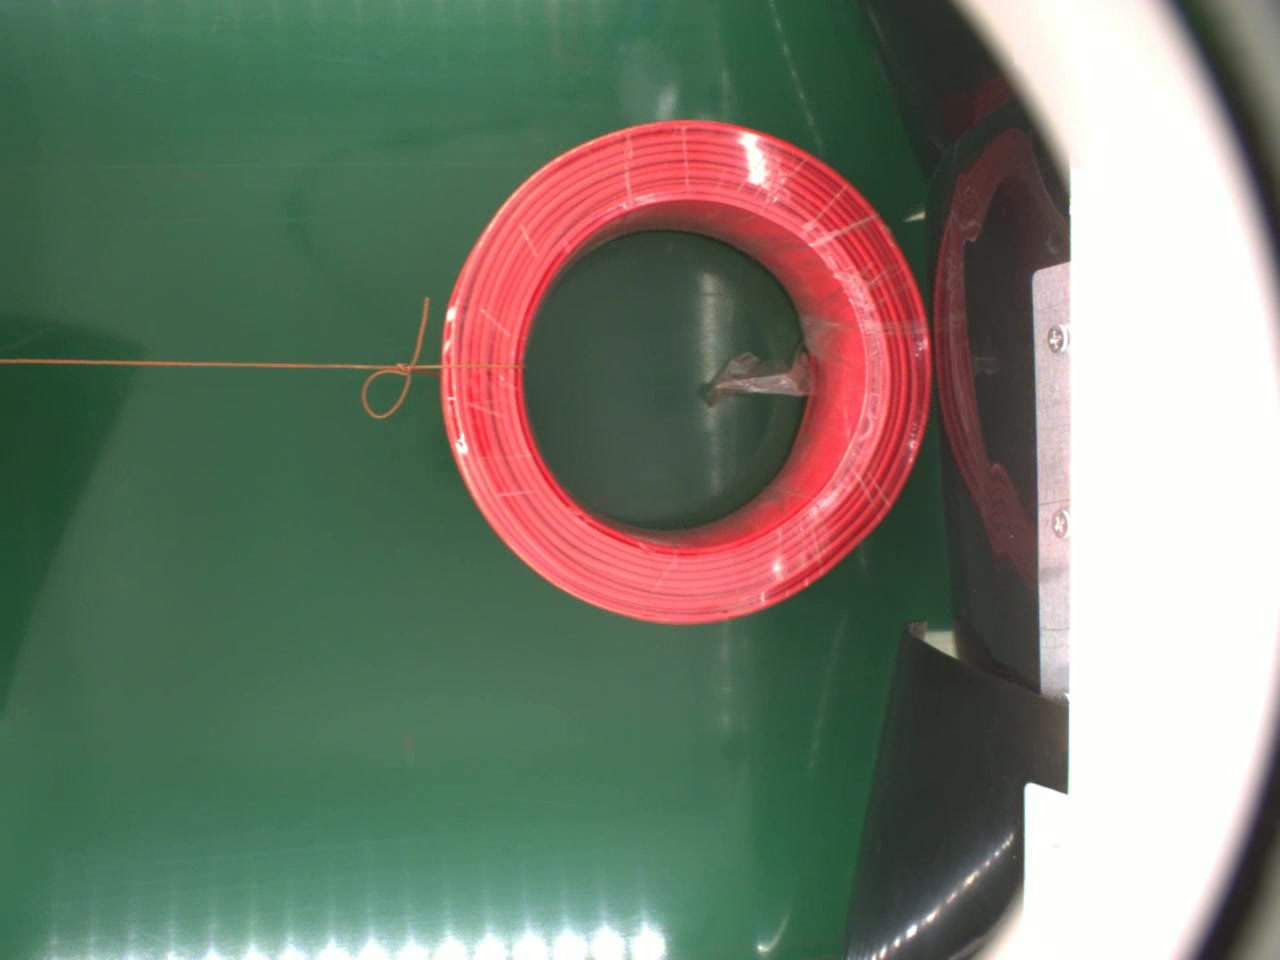red: (437, 110, 932, 630)
